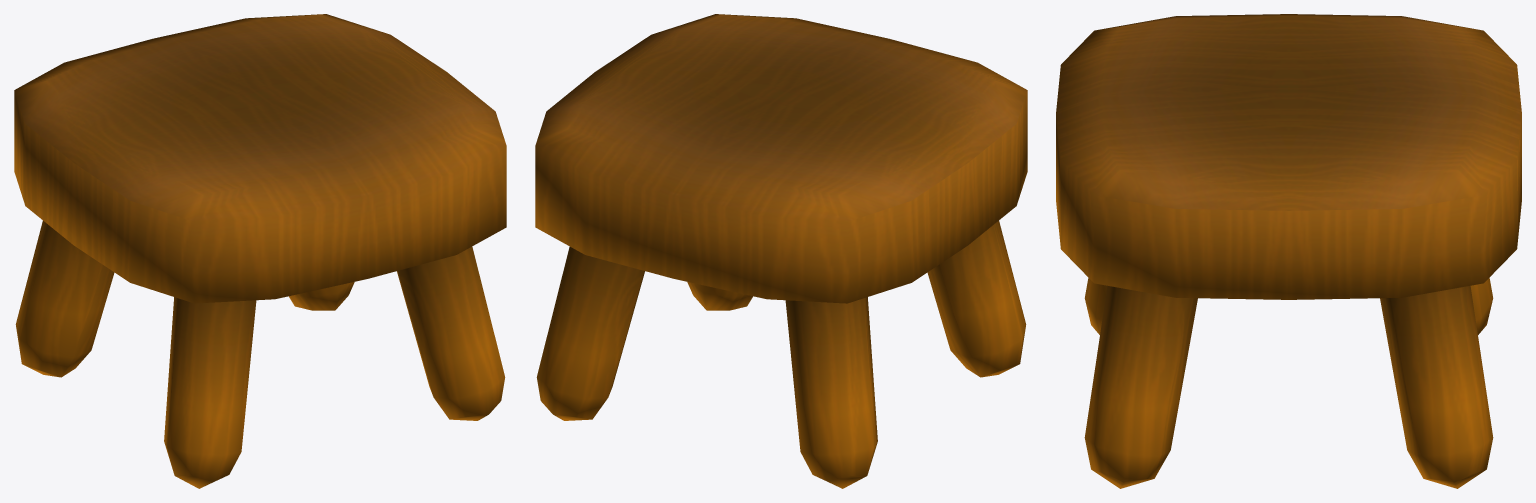
File: Silla 01.fbx
3 views of the same model, side by side, from view 1: azimuth 30°, elevation 25°; view 2: azimuth 150°, elevation 25°; view 3: azimuth 270°, elevation 25° (orthographic). The views are drawn at different scales.
Visible parts, largest first — view 1: Banco; view 2: Banco; view 3: Banco.
Part boxes in pixels (x1,y1,x2,y2): Banco: (14,14,506,488); Banco: (535,14,1027,488); Banco: (1056,14,1521,488).
Size of the model in its own units: 55.68 by 43.1 by 55.68.
